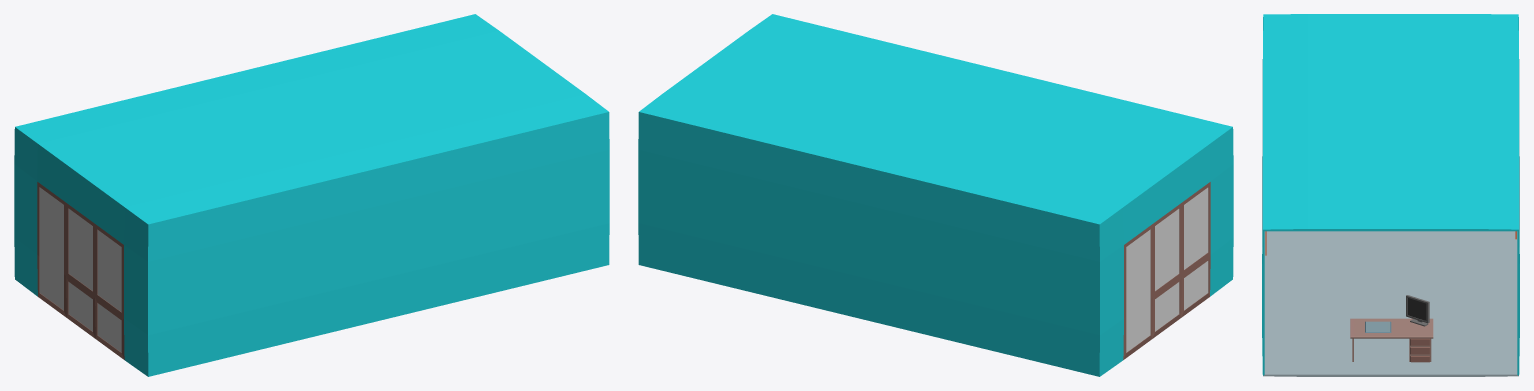
Rendered from SellingStation.fbx.
3 views of the same model, side by side, from view 1: azimuth 30°, elevation 25°; view 2: azimuth 150°, elevation 25°; view 3: azimuth 270°, elevation 25° (orthographic). The views are drawn at different scales.
Parts seen in each view (by area): view 1: Cube.002, Cube.003; view 2: Cube.002, Cube.003; view 3: Cube.002, Cube, Cube.001, Plane.
Boxes of the visible parts, left/top/right/bottom form: Cube.002: left=14, top=14, right=609, bottom=376; Cube.003: left=39, top=187, right=121, bottom=352; Cube.002: left=638, top=14, right=1233, bottom=376; Cube.003: left=1126, top=187, right=1208, bottom=352; Cube.002: left=1262, top=14, right=1519, bottom=376; Cube: left=1350, top=318, right=1433, bottom=362; Cube.001: left=1406, top=295, right=1429, bottom=326; Plane: left=1365, top=321, right=1391, bottom=332.
Bounding box in the file's own units: 2859 × 914 × 1442.
